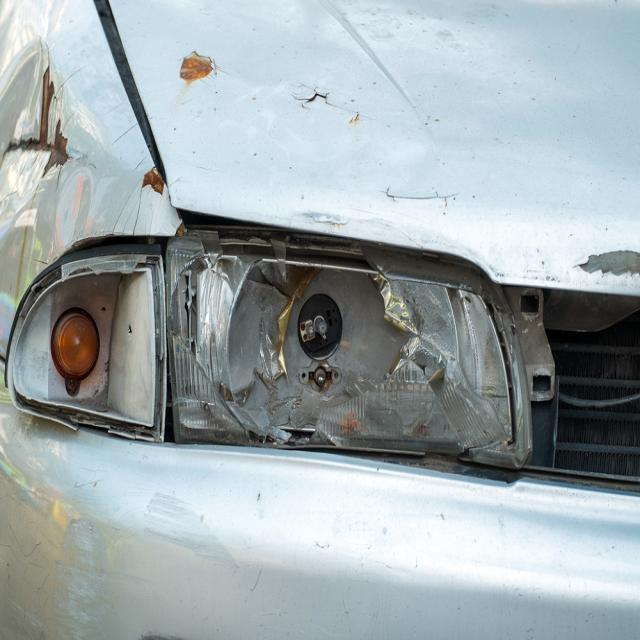dent: (0, 46, 93, 287)
lamp broken: (6, 244, 522, 482)
scratch: (18, 491, 236, 640)
